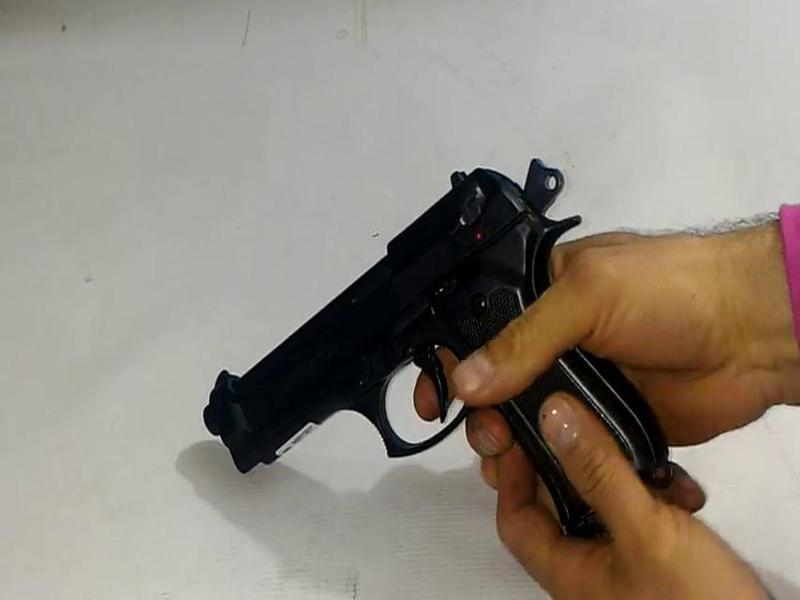Pistola: (142, 152, 702, 526)
